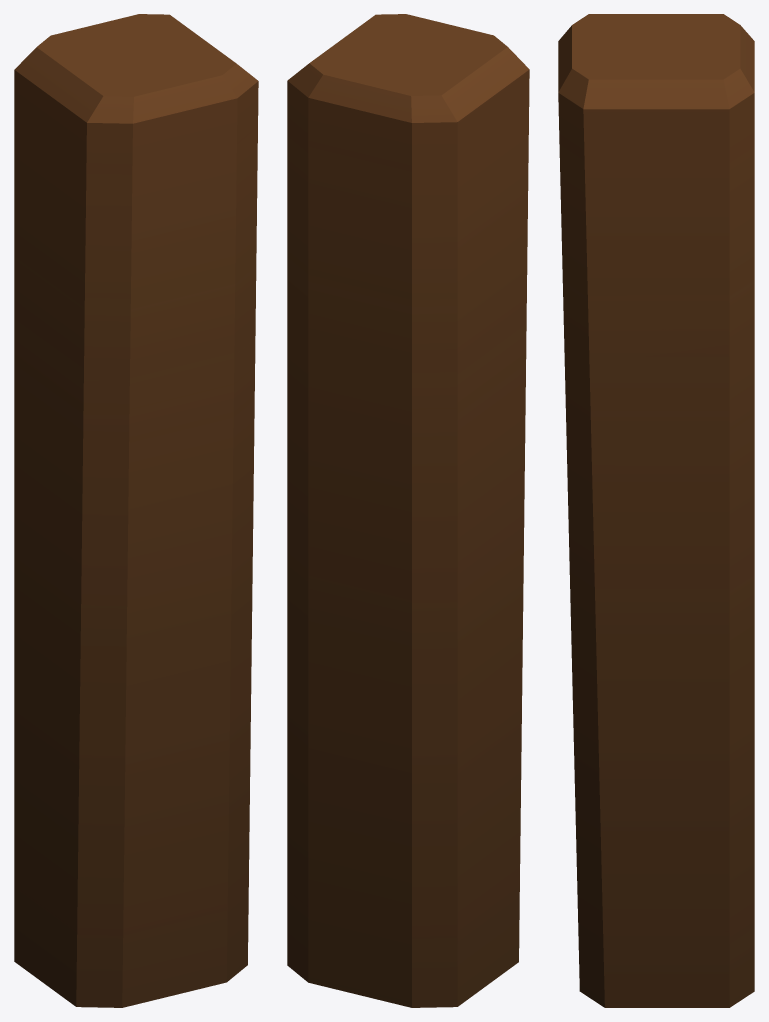
The model's file is Fence_1_C_2.fbx.
3 renders of one model, left to right at view 1: azimuth 30°, elevation 25°; view 2: azimuth 150°, elevation 25°; view 3: azimuth 270°, elevation 25°, orthographic.
Parts seen in each view (by area): view 1: Fence_1_C_2; view 2: Fence_1_C_2; view 3: Fence_1_C_2.
Part boxes in pixels (x1,y1,x2,y2): Fence_1_C_2: (14,14,258,1007); Fence_1_C_2: (287,14,529,1007); Fence_1_C_2: (558,14,754,1007).
Size of the model in its own units: 11.29 by 57.36 by 11.11.
